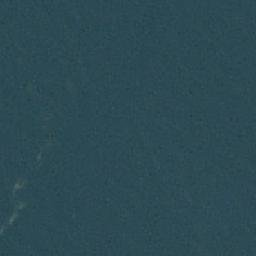debris: (13, 180, 24, 192), (13, 204, 24, 214), (5, 215, 17, 223)
